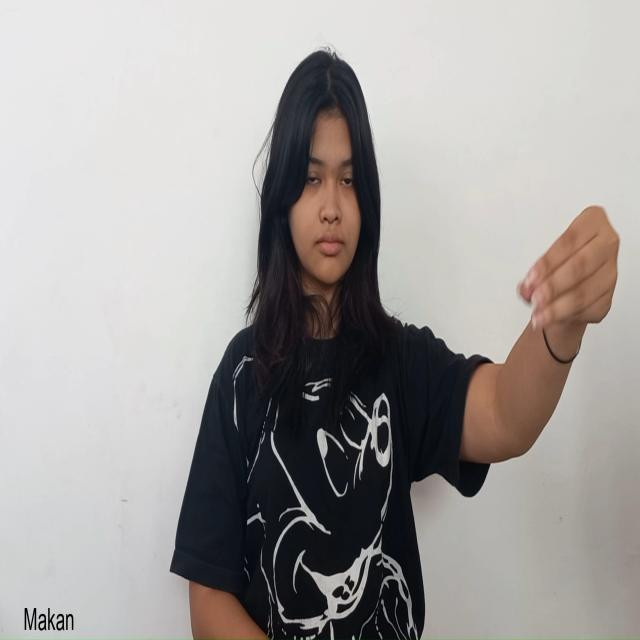Makan -BISINDO-: (514, 203, 619, 361)
